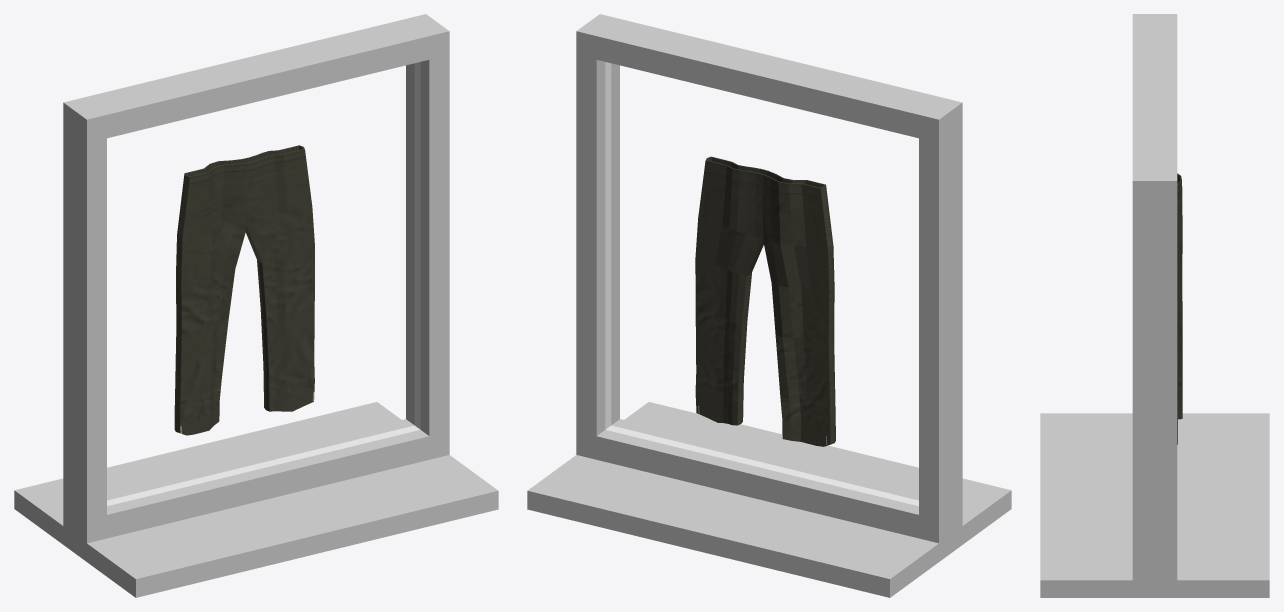
The model's file is chino_green.glb.
3 views of the same model, side by side, from view 1: azimuth 30°, elevation 25°; view 2: azimuth 150°, elevation 25°; view 3: azimuth 270°, elevation 25° (orthographic). The views are drawn at different scales.
Parts seen in each view (by area): view 1: Cube.014, Plane.017; view 2: Cube.014, Plane.017; view 3: Cube.014, Plane.017.
Boxes of the visible parts, x1=… form: Cube.014: x1=14, y1=14, x2=498, y2=597; Plane.017: x1=174, y1=145, x2=314, y2=435; Cube.014: x1=527, y1=14, x2=1011, y2=597; Plane.017: x1=695, y1=156, x2=835, y2=446; Cube.014: x1=1040, y1=14, x2=1269, y2=597; Plane.017: x1=1177, y1=173, x2=1182, y2=444.
Bounding box in the file's own units: 0.6242 × 0.7276 × 0.362.
Materials: 3 (1 with a texture image).
